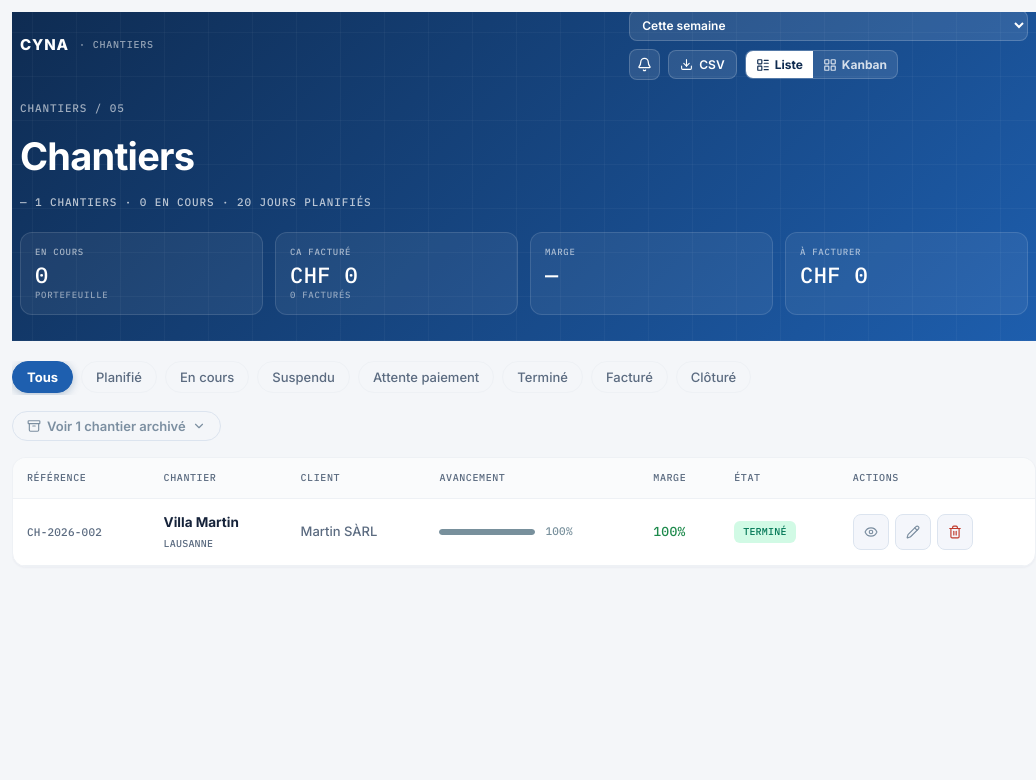
Scenario: ChantiersPage — archivage › toggle "Voir les archivés" → l'archivé réapparaît grisé avec Restaurer
expect the text "Bureaux Dupont" is not shown: met
Click the button "Voir 1 chantier archivé": {"x": 116, "y": 426} [12,411,221,441]
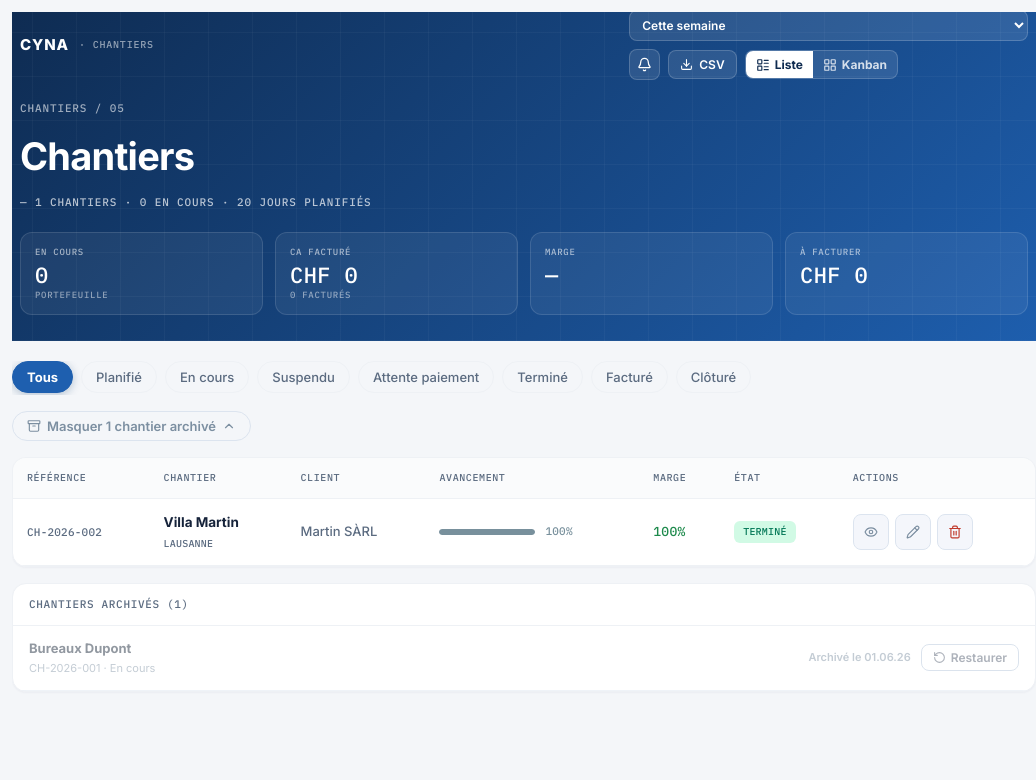
expect the text "Bureaux Dupont" is shown: met, box [29,640,131,656]
expect the button "Restaurer" is shown: met, box [921,644,1019,671]
